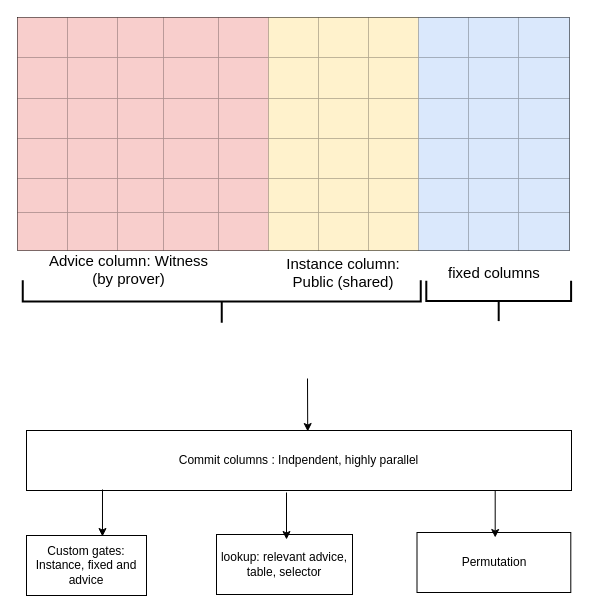
Some shapes in this 590 by 613 pixel diagram are drawn without their labels. Each missing label, with the box of its shape:
Preprocessed data Selectors, const etc: (425, 279, 572, 322)
Vary across each proof for a given circuit: (21, 279, 421, 323)
